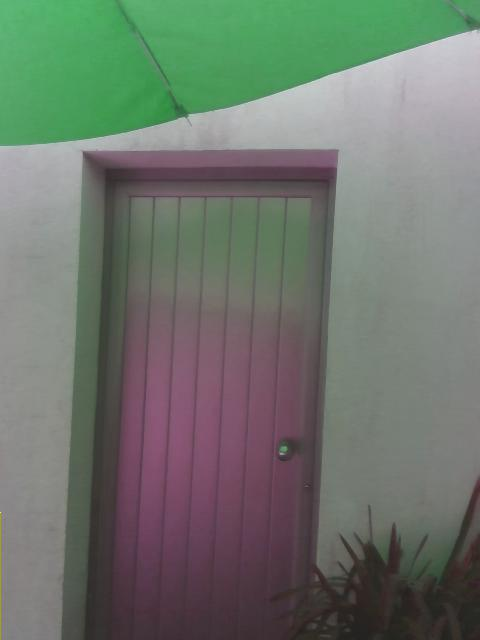closed_door: (60, 151, 335, 639)
